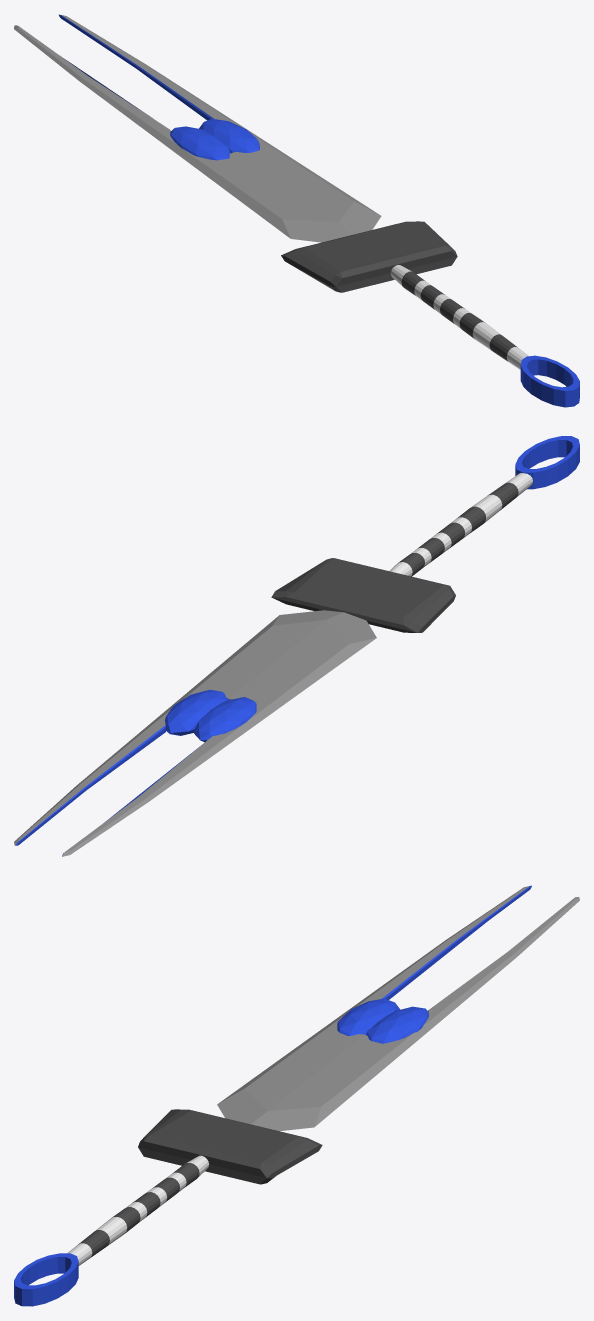
3 renders of one model, top to bottom at view 1: azimuth 30°, elevation 25°; view 2: azimuth 150°, elevation 25°; view 3: azimuth 330°, elevation 25°, orthographic. The views are drawn at different scales.
Visible parts, largest first — view 1: 83; view 2: 83; view 3: 83.
Boxes of the visible parts, box(x1,y1,x2,y2) form: 83: box(14, 14, 579, 407); 83: box(14, 436, 579, 856); 83: box(14, 885, 579, 1306).
Bounding box in the file's own units: 2.95 × 0.4349 × 19.03.
